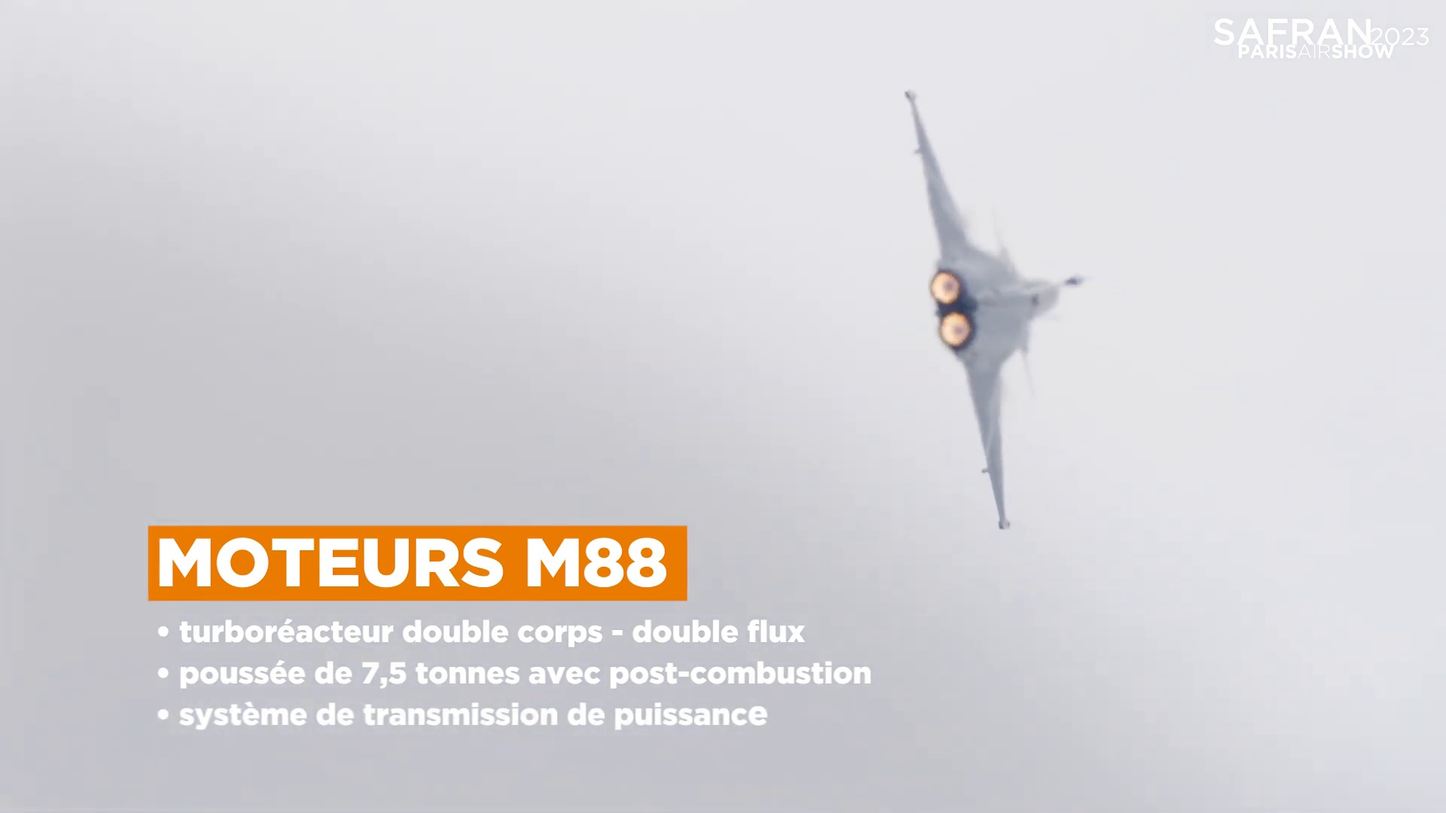Rafale: (904, 90, 1080, 533)
